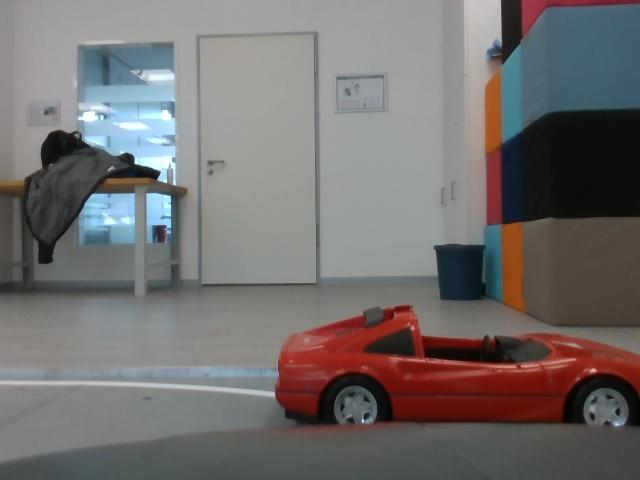car: (267, 294, 640, 453)
